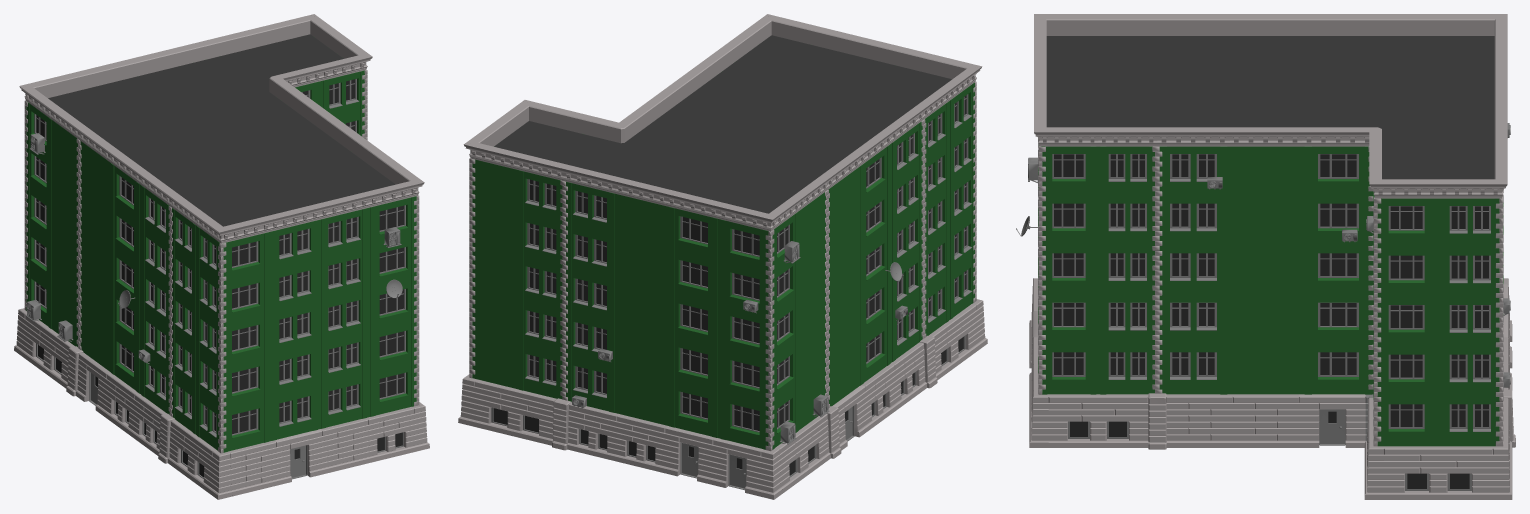
Rendered from building11.fbx.
3 renders of one model, left to right at view 1: azimuth 30°, elevation 25°; view 2: azimuth 150°, elevation 25°; view 3: azimuth 270°, elevation 25°, orthographic. The views are drawn at different scales.
Parts seen in each view (by area): view 1: trimm.026; view 2: trimm.026; view 3: trimm.026.
Boxes of the visible parts, x1=… form: trimm.026: x1=14, y1=14, x2=429, y2=499; trimm.026: x1=458, y1=14, x2=987, y2=499; trimm.026: x1=1016, y1=14, x2=1515, y2=499.
Bounding box in the file's own units: 2335 × 1901 × 2744.
